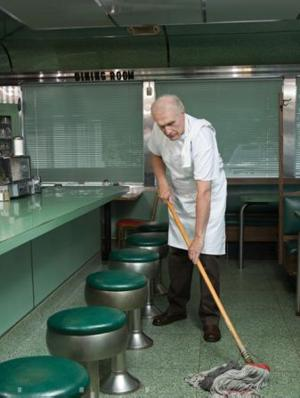person: (148, 93, 229, 345)
